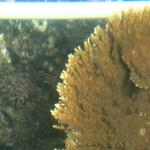alive: (1, 8, 148, 147)
